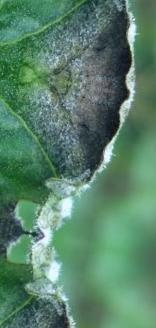Tomato leaf late blight: (0, 56, 156, 267)
